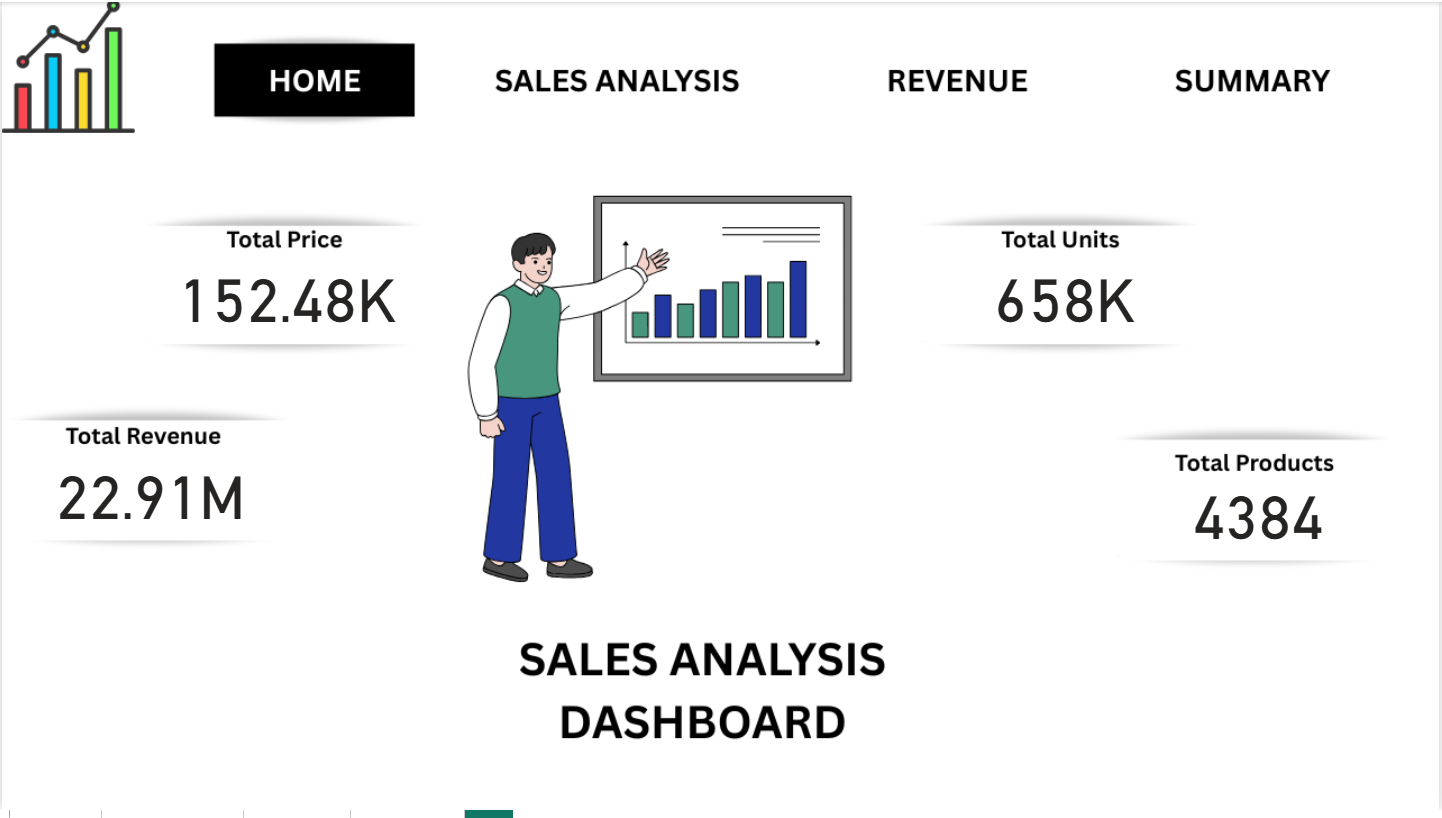

Layout of this report page (visuals, bound fields, positions):
{"tool":"powerbi","page":{"name":"Home","canvas":[1280,720],"ordinal":0},"visuals":[{"type":"card","fields":{"Values":["Sum(sales_data salesdataanalysis.Price)"]},"box":[131.7,236,245.6,68.6],"z":0},{"type":"card","fields":{"Values":["Sum(sales_data salesdataanalysis.Units Sold)"]},"box":[823.3,236,245.6,68.6],"z":1},{"type":"card","fields":{"Values":["Sum(sales_data salesdataanalysis.Revenue)"]},"box":[9.6,410.3,245.6,68.6],"z":2},{"type":"card","fields":{"Values":["CountNonNull(sales_data salesdataanalysis.Product Name)"]},"box":[996.2,428.1,245.6,68.6],"z":3},{"type":"actionButton","box":[417.2,48,252.5,39.8],"z":4},{"type":"actionButton","box":[772.6,48,152.3,39.8],"z":5},{"type":"actionButton","box":[1030.5,48,177,39.8],"z":6}]}

Visuals, with their boxes in screenshot pixels (x1, y1, x2, y2), scaled from the page's 1280x720 canvas onto the 1442x818 screenshot:
card - Sum(sales_data salesdataanalysis.Price): 148 268 425 346
card - Sum(sales_data salesdataanalysis.Units Sold): 927 268 1204 346
card - Sum(sales_data salesdataanalysis.Revenue): 11 466 287 544
card - CountNonNull(sales_data salesdataanalysis.Product Name): 1122 486 1399 564
actionButton: 470 55 754 100
actionButton: 870 55 1042 100
actionButton: 1161 55 1360 100
